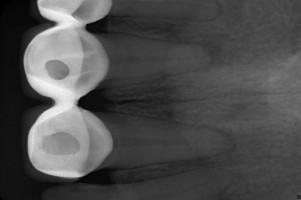Furcation Involvement: (191, 31, 228, 68), (200, 123, 236, 155)
